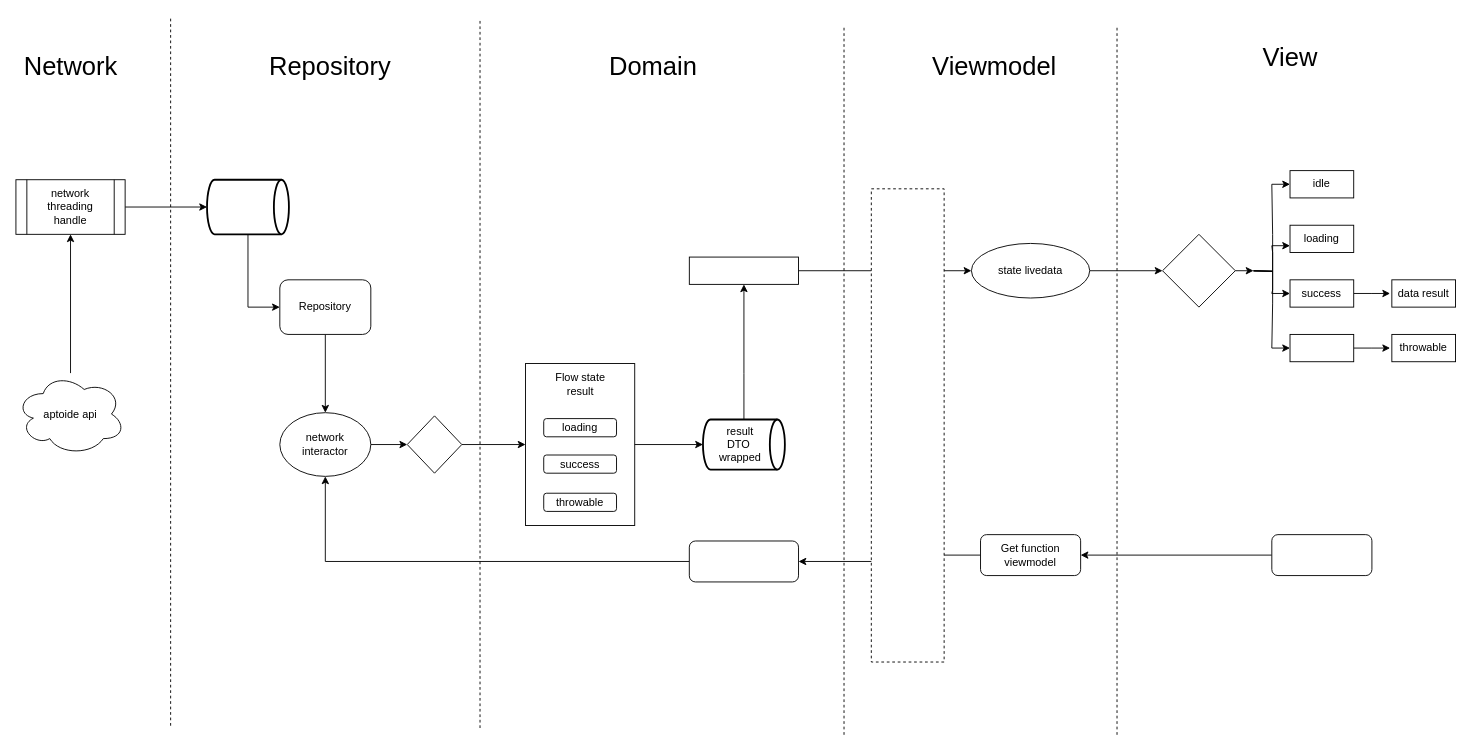
The diagram is 1471 pixels wide and 752 high, and some of its shapes have lost their labels. Here are the shapes that lost their labels. From the top down, the centre of each, then its label:
At (x=247, y=206): "api service".
At (x=743, y=270): "State flow variable".
At (x=1198, y=270): "observer".
At (x=1321, y=348): "error".
At (x=434, y=444): "collect".
At (x=907, y=425): "viewmodel scope".
At (x=743, y=561): "Get function scope".
At (x=1321, y=555): "Get function activity/fragment".
